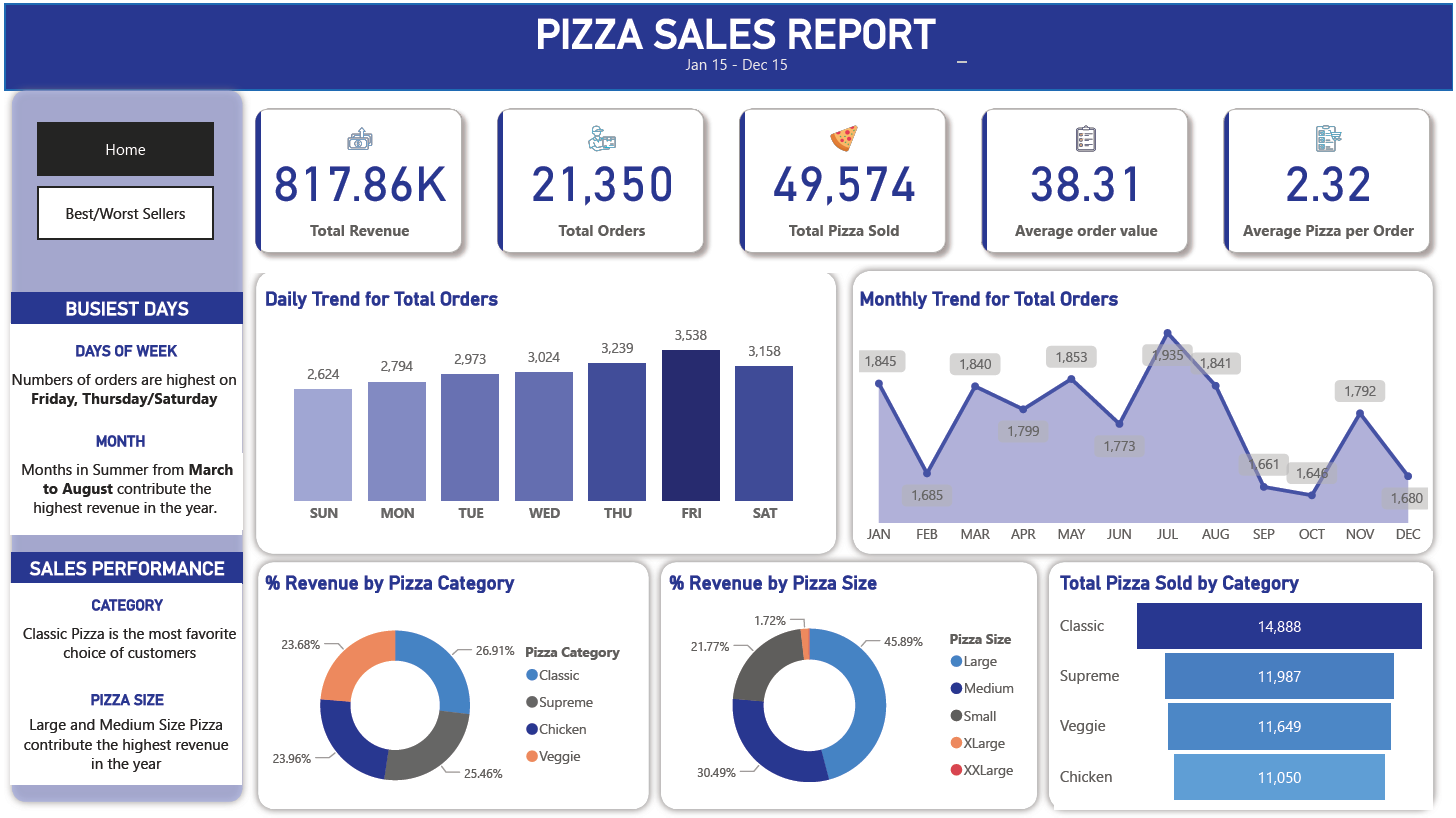

The dashboard page shown, as its layout file describes it:
{"tool":"powerbi","page":{"name":"Home","canvas":[1280,720],"ordinal":0},"visuals":[{"type":"shape","box":[216.4,230.5,526.7,263.3],"z":0},{"type":"cardVisual","fields":{"Data":["pizza_sales.Total Revenue","pizza_sales.Total Orders","pizza_sales.Total Pizza Sold","pizza_sales.Average order value","pizza_sales.Average Pizza per Order"]},"box":[204.8,77.1,1075.6,161.4],"z":1000},{"type":"shape","box":[0,0,1280.4,77.1],"z":2000},{"type":"textbox","title":"PIZZA SALES REPORT","box":[438,6.2,417.6,52.3],"z":3000},{"type":"textbox","box":[582.6,39.9,129.5,30.1],"z":4000},{"type":"columnChart","title":"Daily Trend for Total Orders","fields":{"Category":["pizza_sales.Day of Week"],"Y":["pizza_sales.Total Orders"]},"box":[225.2,250.9,503.6,218.1],"z":5000},{"type":"shape","box":[743.1,230.5,526.7,263.3],"z":6000},{"type":"areaChart","title":"Monthly Trend for Total Orders","fields":{"Category":["pizza_sales.Month"],"Y":["pizza_sales.Total Orders"]},"box":[751,250.9,511.6,236.7],"z":7000},{"type":"shape","box":[218.1,487.7,359.1,232.3],"z":8000},{"type":"shape","box":[573.7,487.7,346.7,232.3],"z":9000},{"type":"shape","box":[916,487.7,353.8,232.3],"z":10000},{"type":"donutChart","title":"% Revenue by Pizza Category","fields":{"Category":["pizza_sales.pizza_category"],"Y":["Sum(pizza_sales.total_price)"]},"box":[225.2,501.9,339.6,218.1],"z":11000},{"type":"donutChart","title":"% Revenue by Pizza Size","fields":{"Y":["Sum(pizza_sales.total_price)"],"Category":["pizza_sales.pizza_size"]},"box":[582.6,501.9,330.7,218.1],"z":12000},{"type":"funnel","title":"Total Pizza Sold by Category","fields":{"Category":["pizza_sales.pizza_category"],"Y":["pizza_sales.Total Pizza Sold"]},"box":[928.4,501.9,334.3,211],"z":13000},{"type":"shape","box":[0,70,218.2,642.7],"z":14000},{"type":"shape","box":[6.2,282.9,203.9,186.2],"z":15000},{"type":"textbox","title":"BUSIEST DAYS","box":[6.4,255.5,203.6,27.3],"z":16000},{"type":"textbox","title":"DAYS OF WEEK","box":[6.2,292.6,203.9,29.3],"z":17000},{"type":"textbox","box":[0.9,318.3,210.1,55.9],"z":18000},{"type":"textbox","title":"MONTH","box":[0.9,372.4,203.9,28.4],"z":19000},{"type":"textbox","box":[7.1,398.1,203.9,67.4],"z":20000},{"type":"textbox","title":"SALES PERFORMANCE","box":[7.1,485,203.9,27.5],"z":21000},{"type":"shape","box":[6.2,512.5,203.9,178.2],"z":22000},{"type":"pageNavigator","box":[29.3,105.5,156.9,104.6],"z":23000},{"type":"textbox","title":"CATEGORY","box":[7.1,517.8,203.9,29.3],"z":24000},{"type":"textbox","box":[6.2,542.7,210.1,55.9],"z":25000},{"type":"textbox","title":"PIZZA SIZE","box":[7.1,601.2,203.9,28.4],"z":26000},{"type":"textbox","box":[6.2,623.3,203.9,67.4],"z":27000}]}

Visuals, with their boxes in screenshot pixels (x1, y1, x2, y2), scaled from the page's 1280x720 canvas onto the 1456x818 screenshot:
shape: [246,262,845,561]
cardVisual - pizza_sales.Total Revenue x pizza_sales.Total Orders: [233,88,1455,271]
shape: [0,0,1455,88]
"PIZZA SALES REPORT" textbox: [498,7,973,66]
textbox: [663,45,810,80]
"Daily Trend for Total Orders" columnChart: [256,285,829,533]
shape: [845,262,1444,561]
"Monthly Trend for Total Orders" areaChart: [854,285,1436,554]
shape: [248,554,657,817]
shape: [653,554,1047,817]
shape: [1042,554,1444,817]
"% Revenue by Pizza Category" donutChart: [256,570,642,817]
"% Revenue by Pizza Size" donutChart: [663,570,1039,817]
"Total Pizza Sold by Category" funnel: [1056,570,1436,810]
shape: [0,80,248,810]
shape: [7,321,239,533]
"BUSIEST DAYS" textbox: [7,290,239,321]
"DAYS OF WEEK" textbox: [7,332,239,366]
textbox: [1,362,240,425]
"MONTH" textbox: [1,423,233,455]
textbox: [8,452,240,529]
"SALES PERFORMANCE" textbox: [8,551,240,582]
shape: [7,582,239,785]
pageNavigator: [33,120,212,239]
"CATEGORY" textbox: [8,588,240,622]
textbox: [7,617,246,680]
"PIZZA SIZE" textbox: [8,683,240,715]
textbox: [7,708,239,785]
